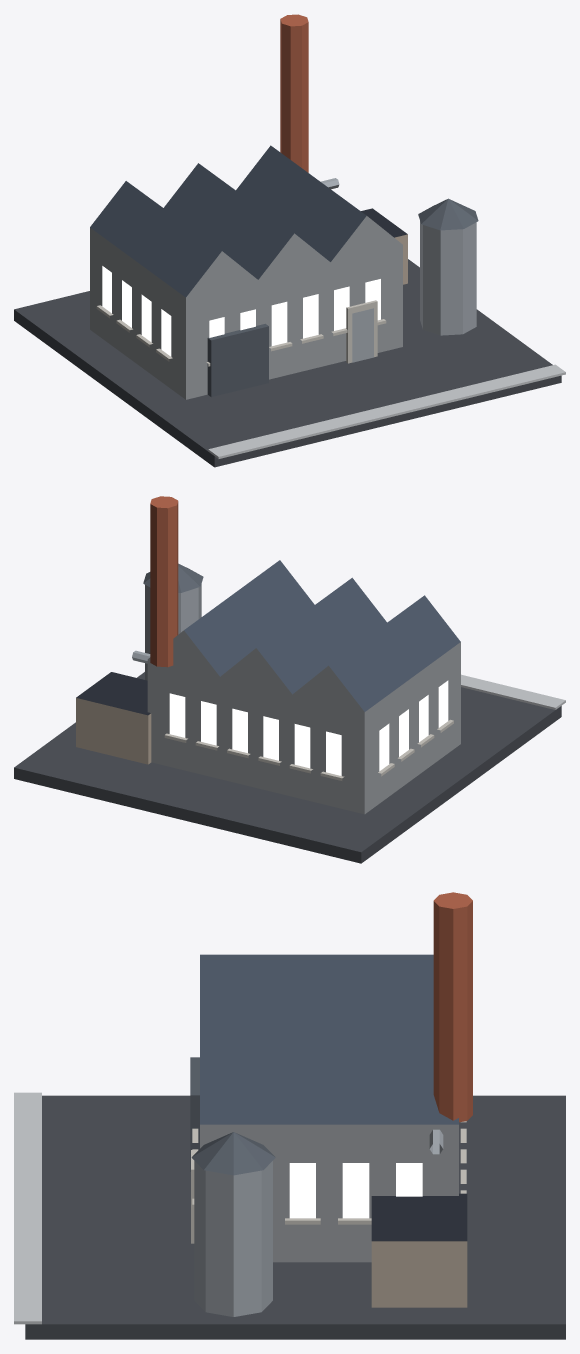
3 views of the same model, one above another, from view 1: azimuth 30°, elevation 25°; view 2: azimuth 150°, elevation 25°; view 3: azimuth 270°, elevation 25° (orthographic). The views are drawn at different scales.
Parts seen in each view (by area): view 1: b37_v2_lod1; view 2: b37_v2_lod1; view 3: b37_v2_lod1.
Boxes of the visible parts, left/top/right/bottom form: b37_v2_lod1: left=14, top=14, right=565, bottom=467; b37_v2_lod1: left=14, top=496, right=565, bottom=863; b37_v2_lod1: left=14, top=892, right=565, bottom=1339.
Bounding box in the file's own units: 0.96 × 0.72 × 0.98.
